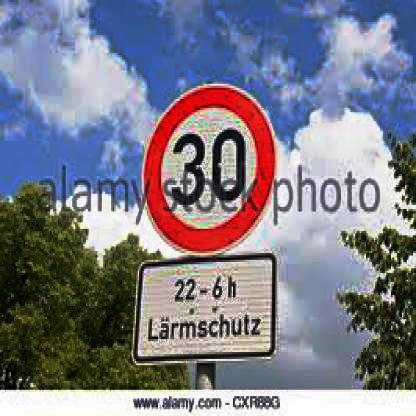Speed Limit -30-: (138, 84, 280, 254)
